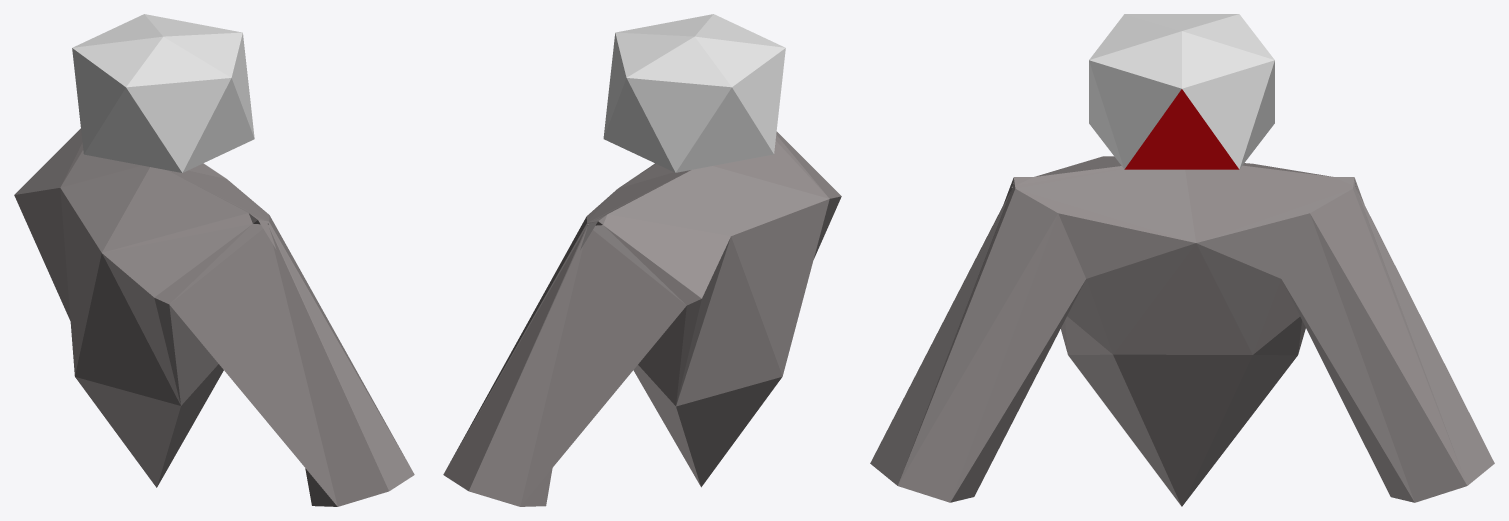
File: TrueMeldewesen.dae
3 renders of one model, left to right at view 1: azimuth 30°, elevation 25°; view 2: azimuth 150°, elevation 25°; view 3: azimuth 270°, elevation 25°, orthographic. The views are drawn at different scales.
Parts seen in each view (by area): view 1: Icosphere.001, Icosphere; view 2: Icosphere.001, Icosphere; view 3: Icosphere.001, Icosphere.
Boxes of the visible parts, x1,y1,x2,y2 form: Icosphere.001: (14,128,414,506); Icosphere: (72,14,254,172); Icosphere.001: (443,131,841,506); Icosphere: (603,14,785,172); Icosphere.001: (870,156,1494,506); Icosphere: (1089,14,1274,169).
Bounding box in the file's own units: 2.43 × 5.71 × 4.84.
